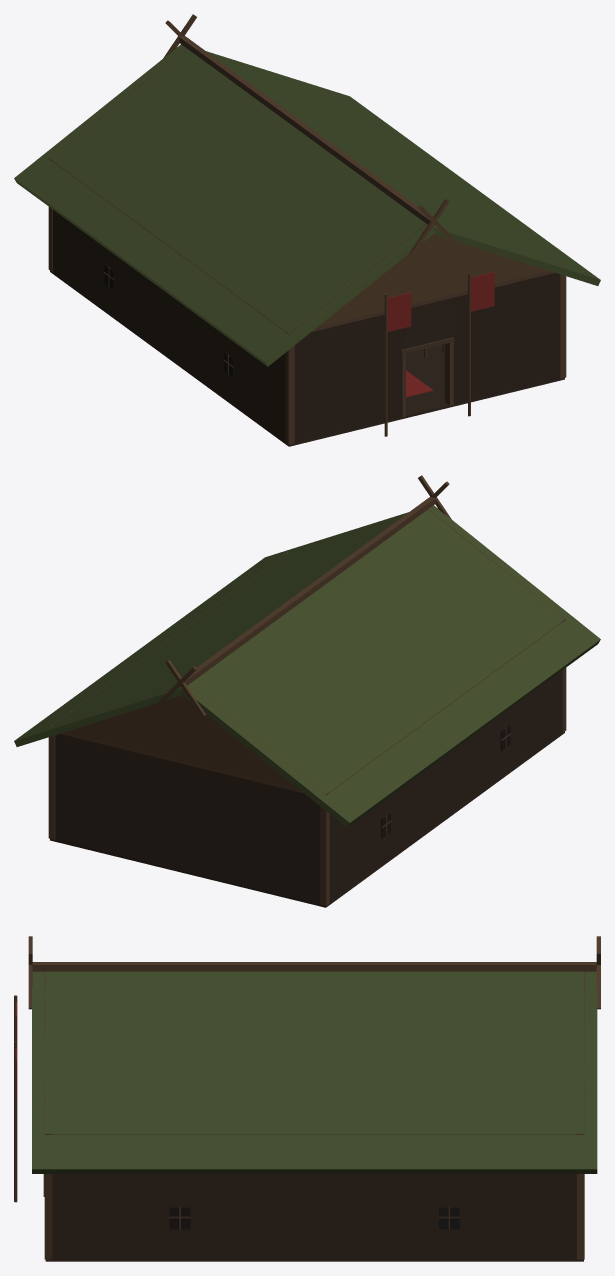
Rendered from walk_rime_hall.glb.
3 views of the same model, one above another, from view 1: azimuth 30°, elevation 25°; view 2: azimuth 150°, elevation 25°; view 3: azimuth 270°, elevation 25° (orthographic). The views are drawn at different scales.
Parts seen in each view (by area): view 1: walk_rime_hall_roof, walk_rime_hall; view 2: walk_rime_hall_roof, walk_rime_hall; view 3: walk_rime_hall_roof, walk_rime_hall.
Part boxes in pixels (bbox=[...]): walk_rime_hall_roof: bbox=[14, 14, 600, 366]; walk_rime_hall: bbox=[48, 90, 566, 446]; walk_rime_hall_roof: bbox=[14, 475, 600, 827]; walk_rime_hall: bbox=[48, 551, 566, 907]; walk_rime_hall_roof: bbox=[28, 936, 600, 1173]; walk_rime_hall: bbox=[14, 995, 584, 1261].
Size of what is drawn, in the model's own units: 14.6 by 8.95 by 19.63.
Materials: 2 (2 with a texture image).
